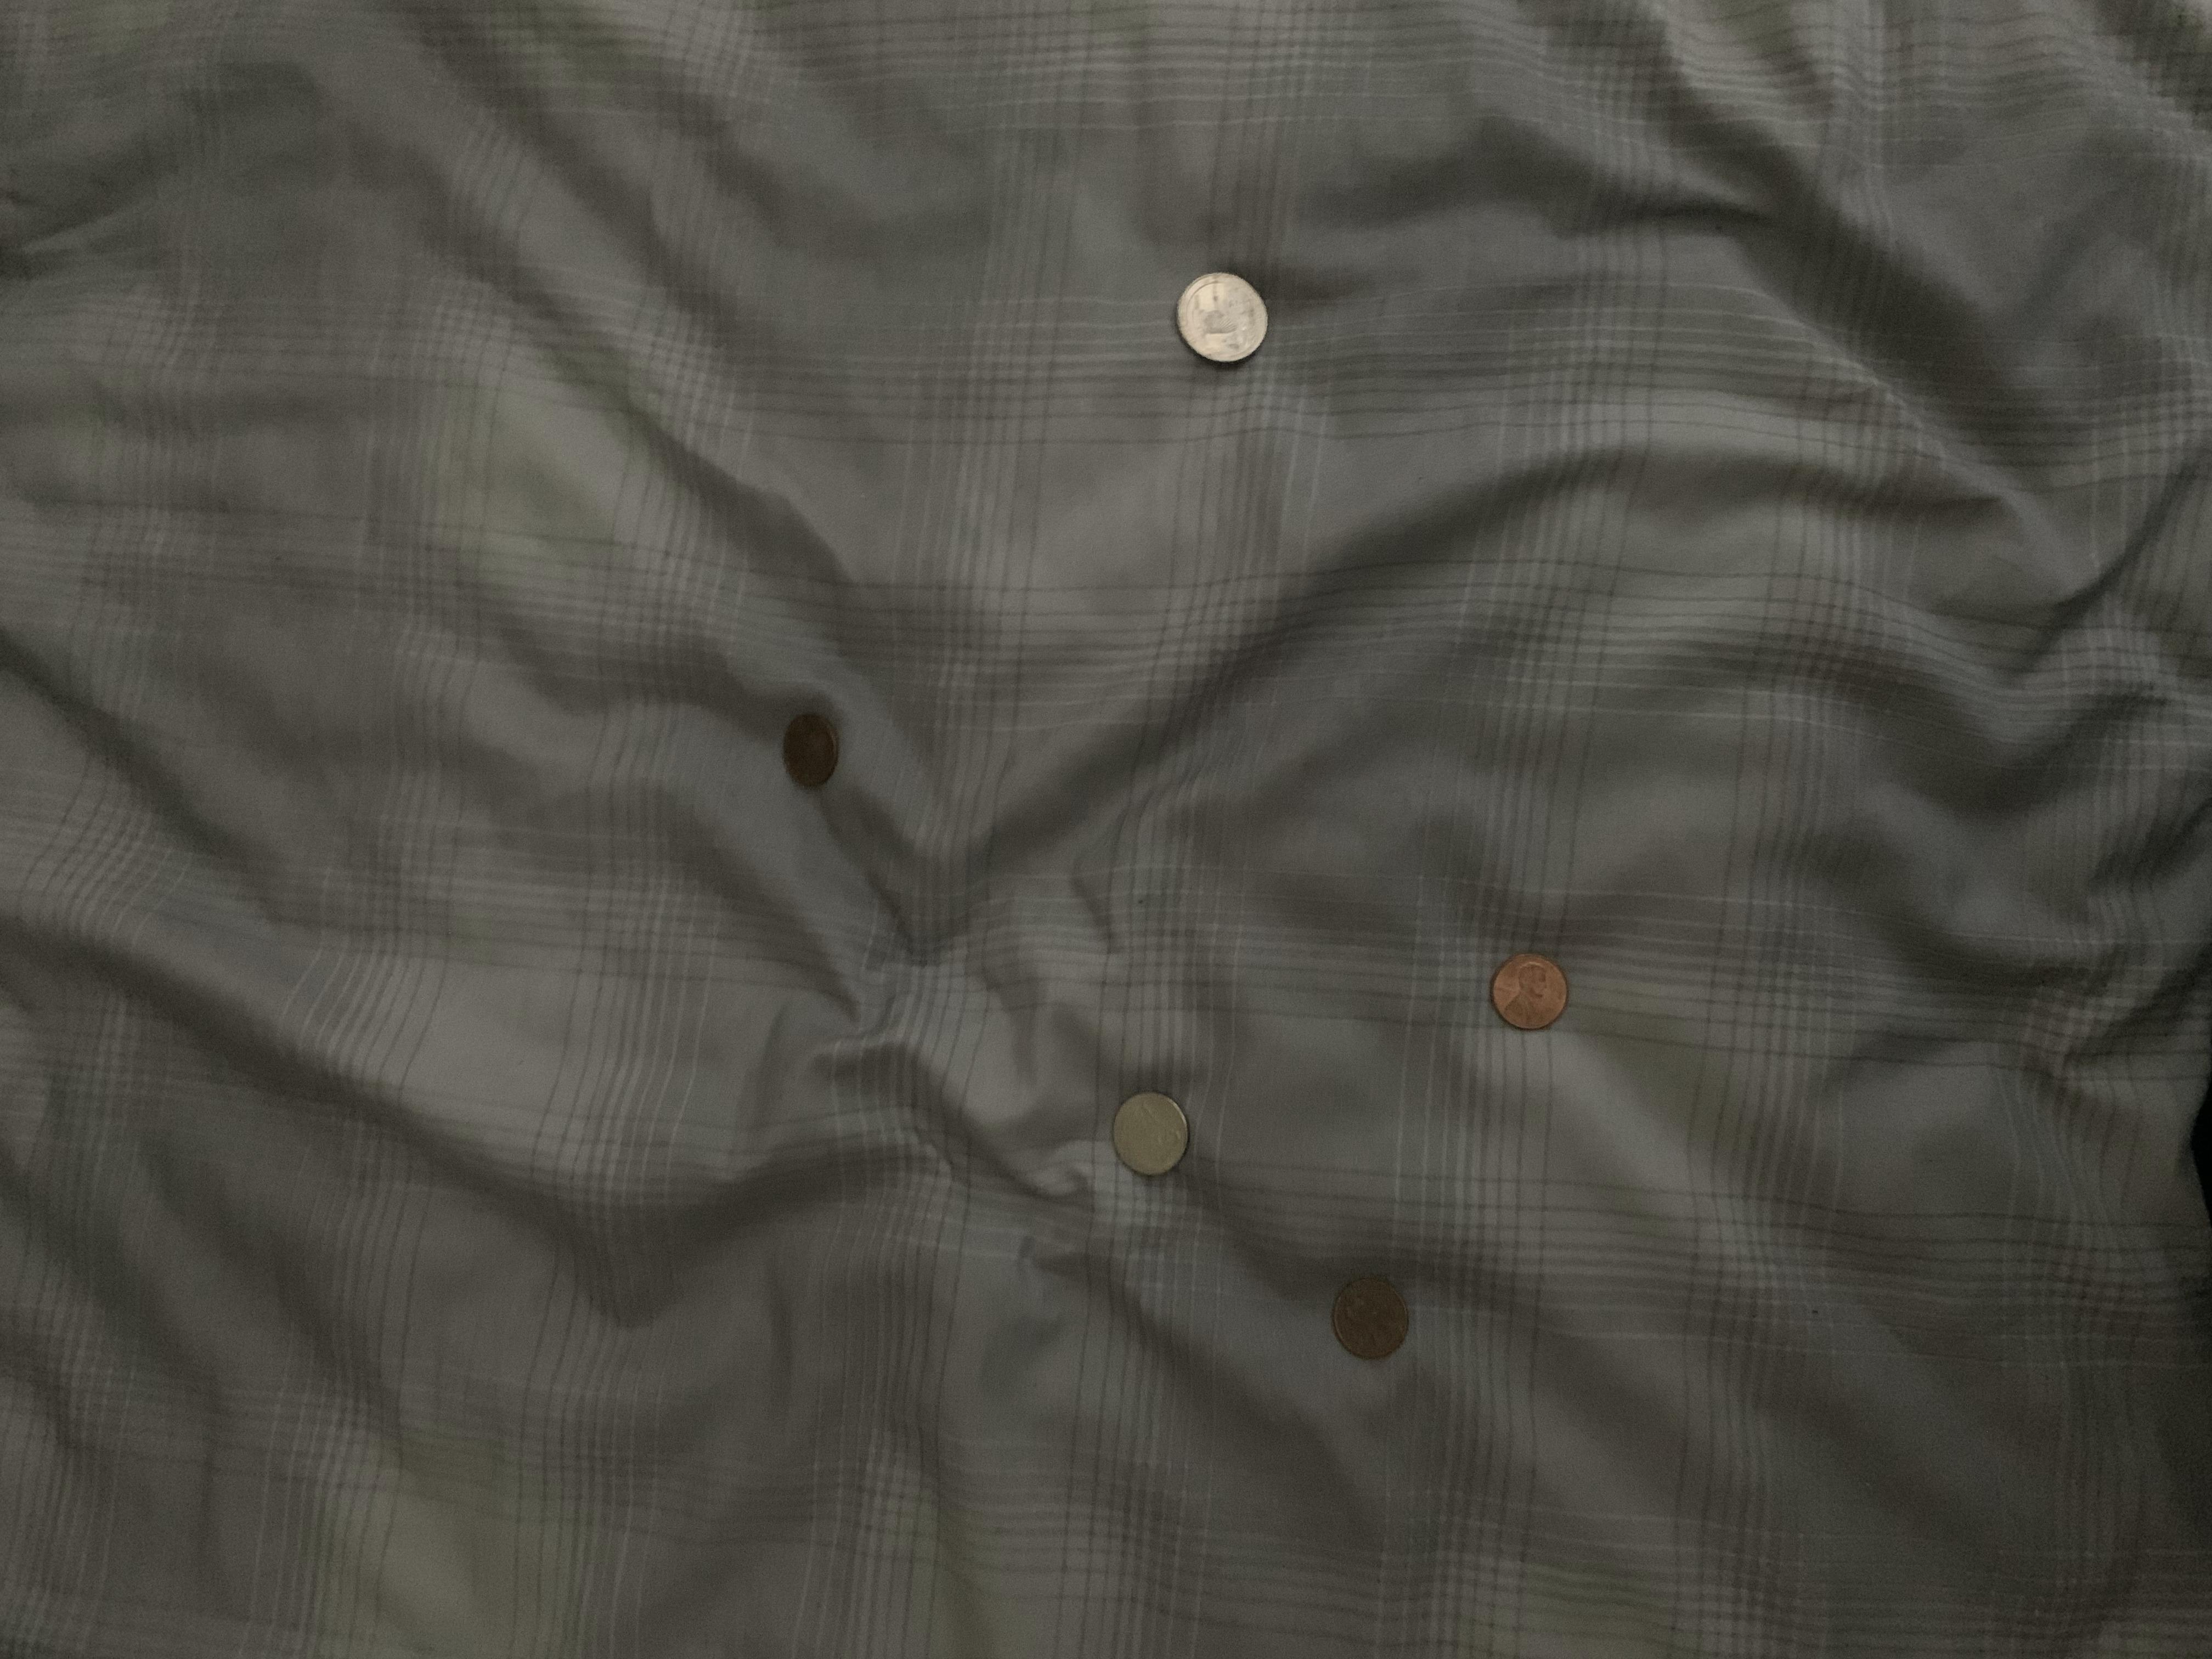Nickel: (1106, 1089, 1188, 1180)
Penny: (1325, 1274, 1414, 1364), (1482, 950, 1576, 1033), (775, 708, 843, 793)
Quarter: (1169, 268, 1270, 371)
